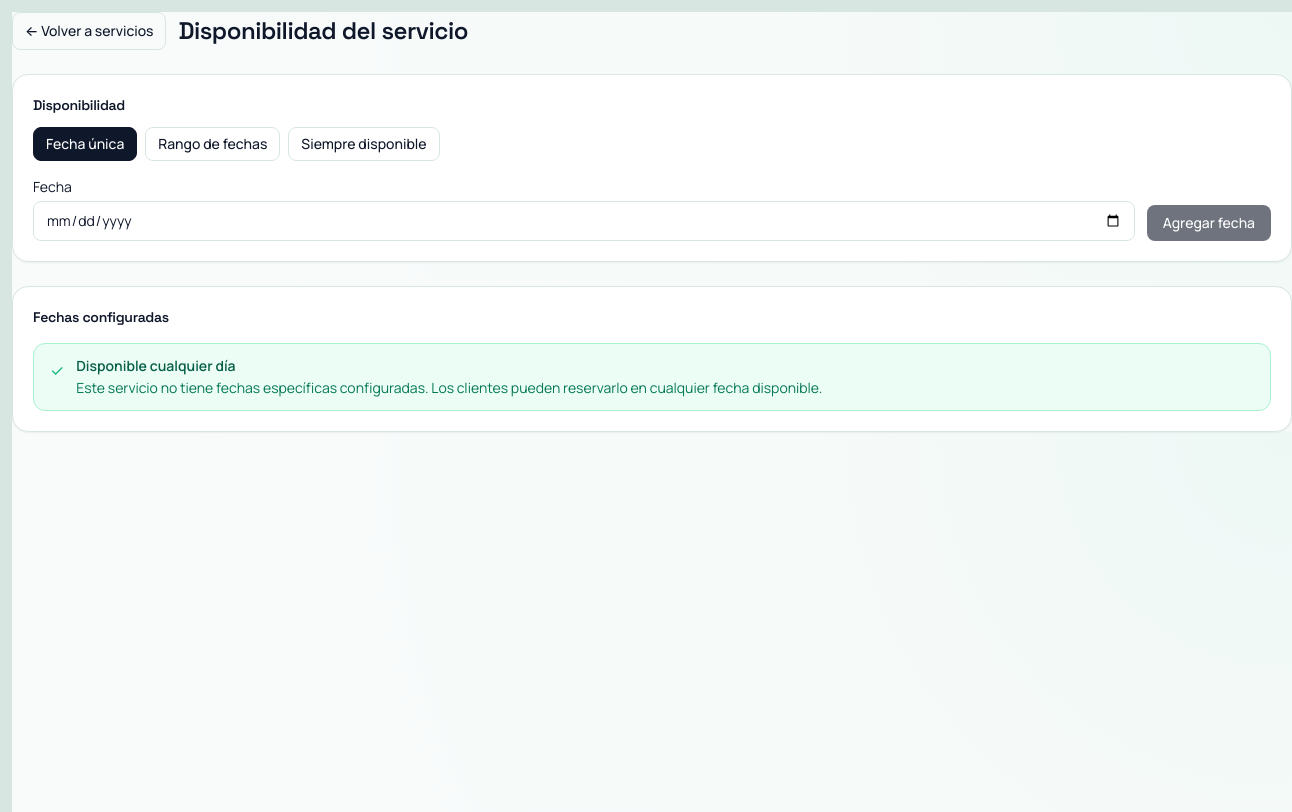
Scenario: AdminServiceAvailabilityPage › shows Spanish error message when add fails
This screenshot has width=1292, height=812.
Expected: the button "Agregar fecha" is shown, [1147, 205, 1271, 241]
In the date field labelled "Fecha": (584, 221) [33, 201, 1135, 241], type "2026-06-20"
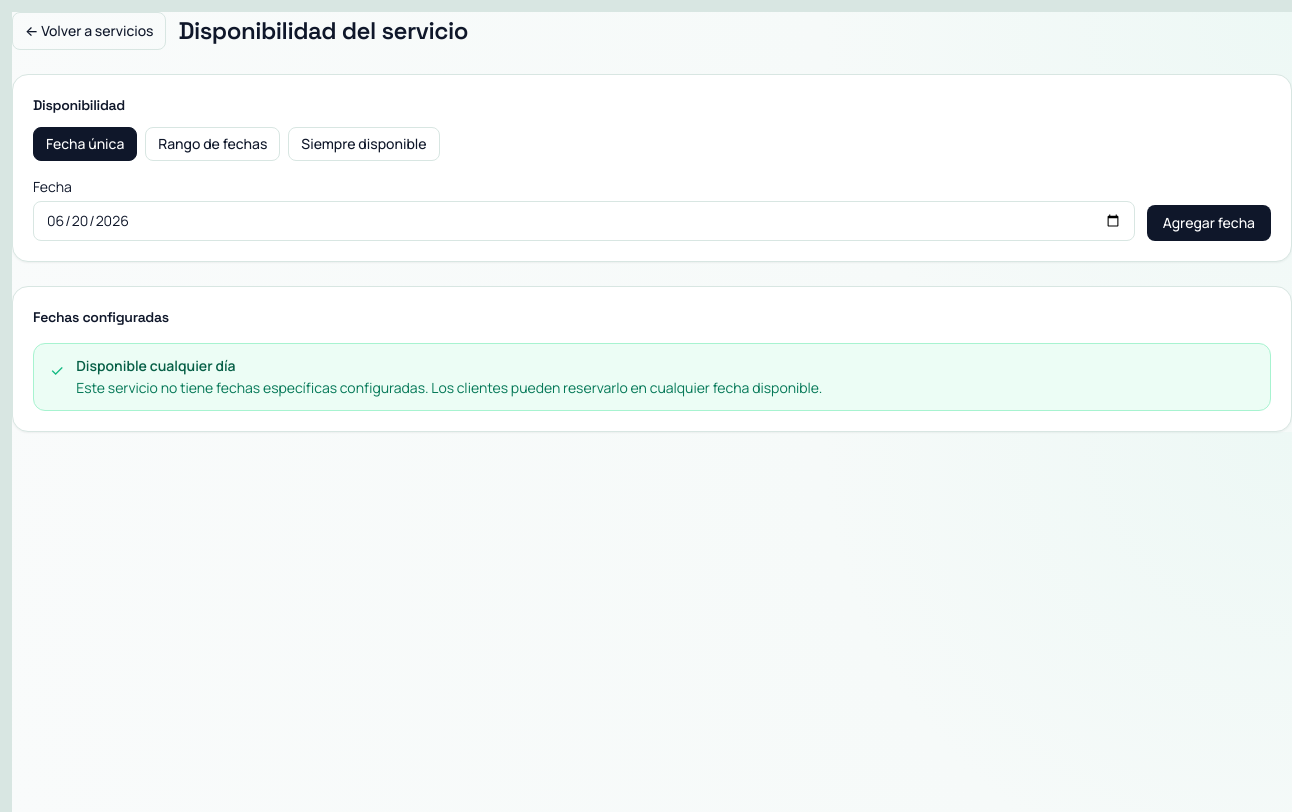
Click the button "Agregar fecha": (1209, 223) [1147, 205, 1271, 241]
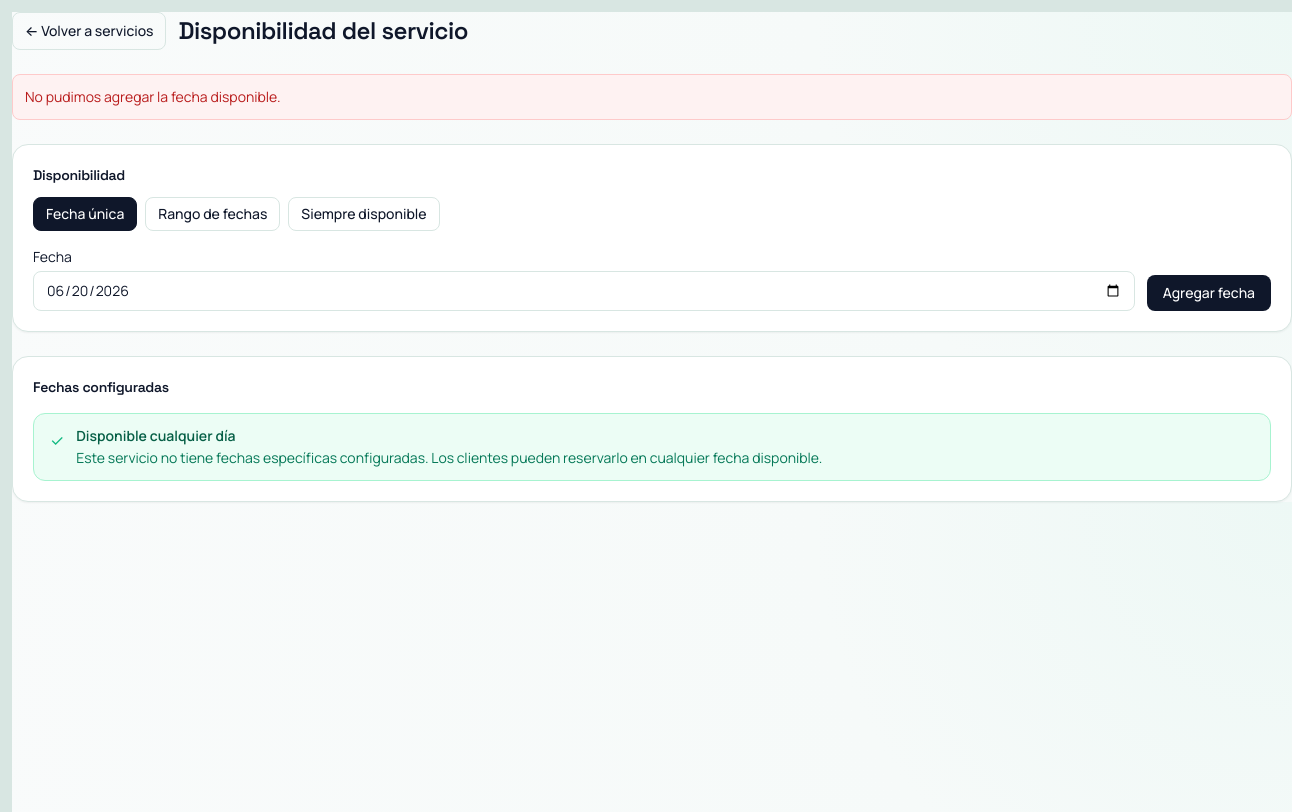
Expected: the text "No pudimos agregar la fecha disponible." is shown, [12, 74, 1291, 120]
